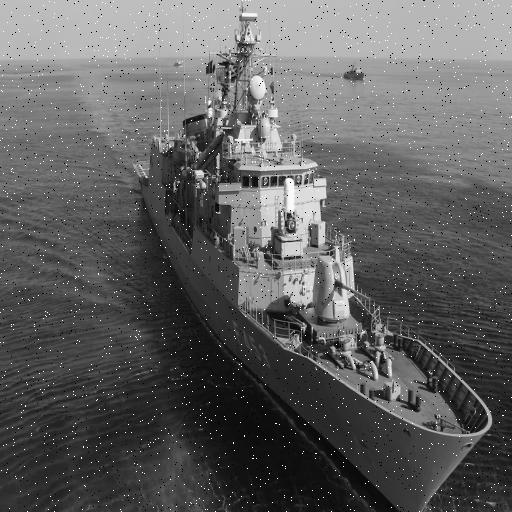Fragata: (134, 1, 499, 512)
